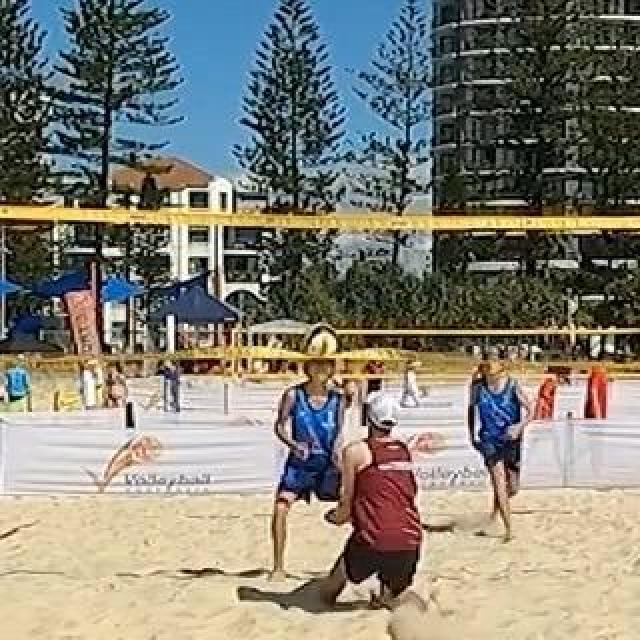volleyball: (301, 322, 339, 360)
